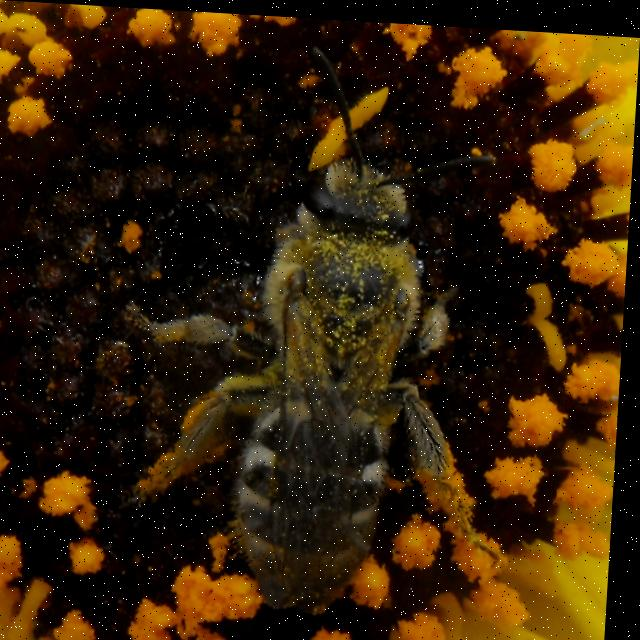Lasioglossum: (128, 98, 508, 632)
